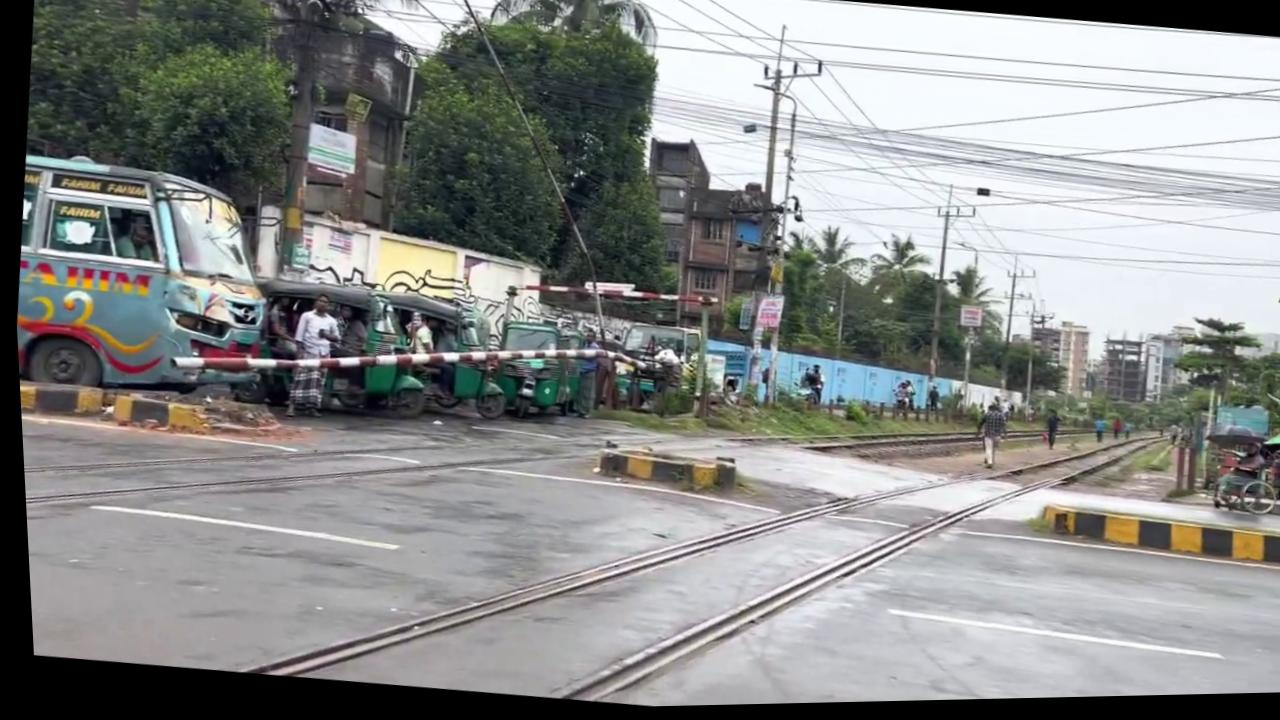Car: (1032, 501, 1280, 574)
Fence: (274, 290, 345, 422)
Garbage: (911, 185, 997, 426)
Motorcycle: (356, 455, 857, 714)
Rickshaw: (227, 258, 513, 433), (1192, 390, 1280, 525)
